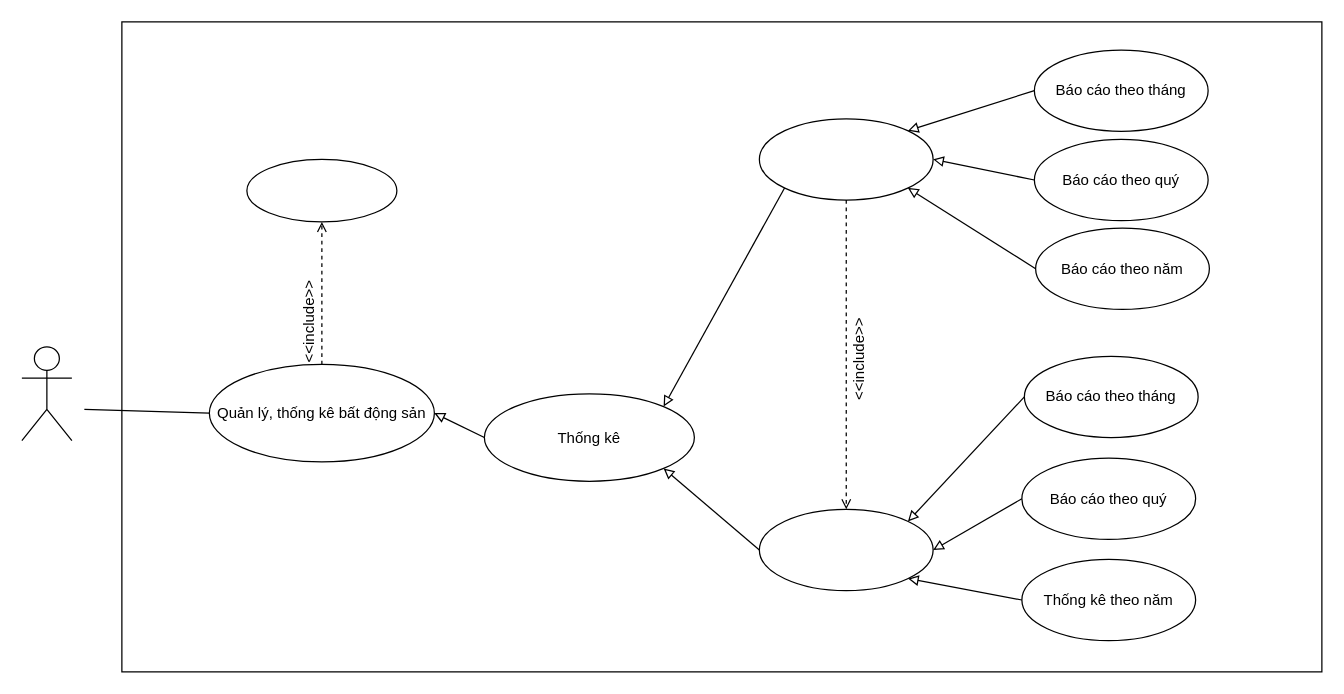
Some shapes in this 1344 by 694 pixel diagram are drawn without their labels. The shapes that lost their labels are listed below. From the top down, each one's centre as x and y in pixels, then its label:
At point (845, 159): "Lập báo cáo doanh số".
At point (321, 190): "Đăng nhập".
At point (46, 393): "Admin".
At point (845, 549): "Thống kê BĐS đã bán".
